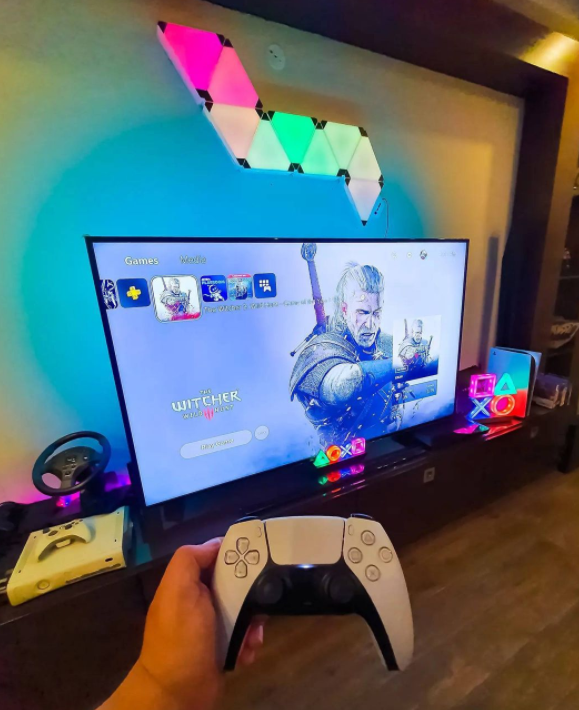gamingconsole: (213, 517, 414, 676)
